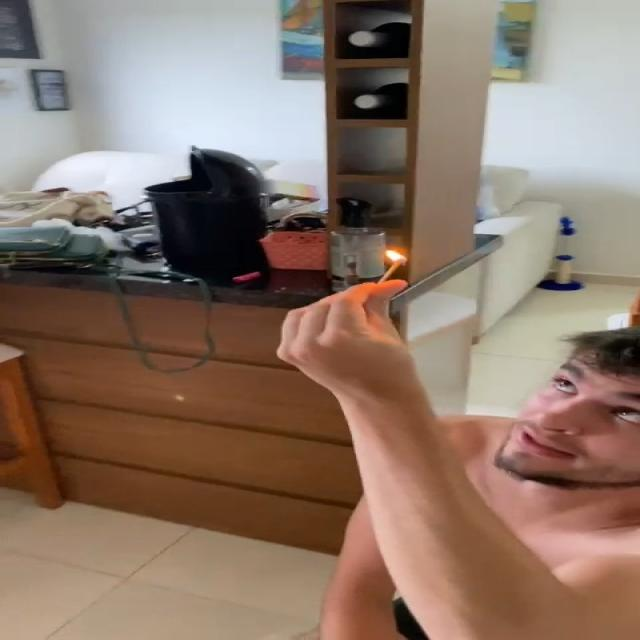fogo-ypXI: (382, 247, 408, 264)
